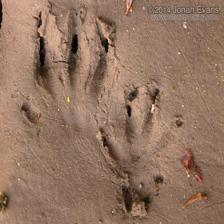rat: (17, 22, 112, 141), (96, 85, 186, 207)
